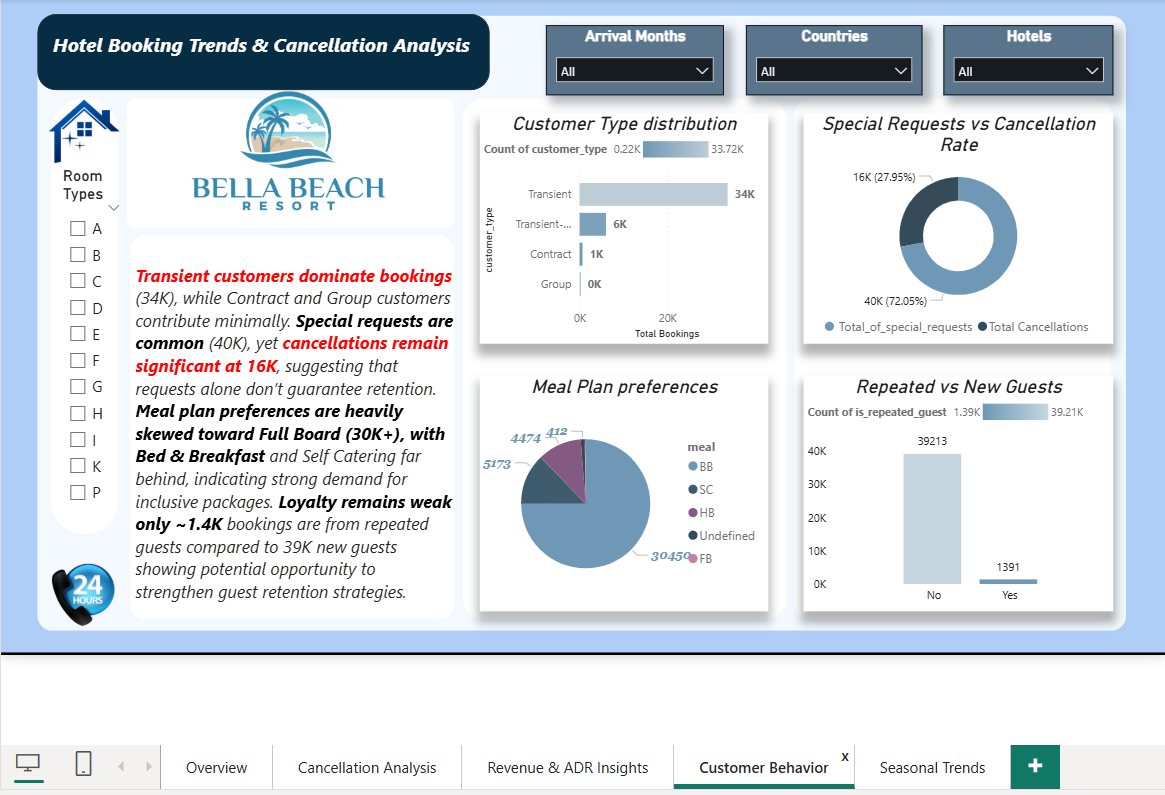

The dashboard page shown, as its layout file describes it:
{"tool":"powerbi","page":{"name":"Customer Behavior","canvas":[1280,720],"ordinal":3},"visuals":[{"type":"slicer","title":"Hotels","fields":{"Values":["hotel_revenue.hotel"]},"box":[655.8,166.3,293,59.3],"z":0},{"type":"slicer","title":"Countries","fields":{"Values":["hotel_revenue.Country Full Name"]},"box":[333.7,166.3,293,59.3],"z":1000},{"type":"textbox","box":[82.2,0,1115.9,86.3],"z":2000},{"type":"slicer","title":"Arrival Months","fields":{"Values":["hotel_revenue.arrival_date_month"]},"box":[12.8,166.3,293,59.3],"z":3000},{"type":"image","box":[12.8,0,181.4,173.3],"z":4000},{"type":"cardVisual","fields":{"Data":["Measure.Avg Lead Time"]},"box":[735.8,63.3,242.6,102.4],"z":5000},{"type":"cardVisual","fields":{"Data":["Measure.Cancellation Rate"]},"box":[458.2,63.3,239.9,102.4],"z":6000},{"type":"cardVisual","fields":{"Data":["Measure.Total Bookings"]},"box":[202.1,62,222.4,102.4],"z":7000},{"type":"cardVisual","fields":{"Data":["Measure.Avg Daily Rate"]},"box":[1006.7,63.3,234.5,102.4],"z":8000},{"type":"slicer","title":"Room Type","fields":{"Values":["hotel_revenue.assigned_room_type"]},"box":[977.9,166.3,293,59.3],"z":9000},{"type":"clusteredBarChart","title":"Total Booking By Customer Type","fields":{"Category":["hotel_revenue.customer_type"],"Y":["Measure.Total Bookings"]},"box":[12.1,250.7,671.1,258.8],"z":10000},{"type":"pieChart","title":"Meal Plan preferences","fields":{"Category":["hotel_revenue.Meal Plan"],"Y":["Measure.Total Bookings"]},"box":[698.1,250.7,572.8,258.8],"z":11000},{"type":"donutChart","title":"Special Requests vs Cancellation Rate","fields":{"Y":["CountNonNull(hotel_revenue.total_of_special_requests)","Measure.Total Cancellations"]},"box":[698.1,531,572.8,188.7],"z":12000},{"type":"clusteredBarChart","title":"Repeated vs New Guests","fields":{"Category":["hotel_revenue.is_repeated_guest"],"Y":["Measure.Total Bookings"]},"box":[12.1,531,671.1,188.7],"z":13000}]}

Visuals, with their boxes on the page's 1280x720 design canvas (x1, y1, x2, y2). These are canvas units, not pixel positions in the 1165x795 screenshot, which may show the page scaled, cropped or inside an application window:
"Hotels" slicer: Rect(656, 166, 949, 226)
"Countries" slicer: Rect(334, 166, 627, 226)
textbox: Rect(82, 0, 1198, 86)
"Arrival Months" slicer: Rect(13, 166, 306, 226)
image: Rect(13, 0, 194, 173)
cardVisual - Measure.Avg Lead Time: Rect(736, 63, 978, 166)
cardVisual - Measure.Cancellation Rate: Rect(458, 63, 698, 166)
cardVisual - Measure.Total Bookings: Rect(202, 62, 424, 164)
cardVisual - Measure.Avg Daily Rate: Rect(1007, 63, 1241, 166)
"Room Type" slicer: Rect(978, 166, 1271, 226)
"Total Booking By Customer Type" clusteredBarChart: Rect(12, 251, 683, 510)
"Meal Plan preferences" pieChart: Rect(698, 251, 1271, 510)
"Special Requests vs Cancellation Rate" donutChart: Rect(698, 531, 1271, 720)
"Repeated vs New Guests" clusteredBarChart: Rect(12, 531, 683, 720)
